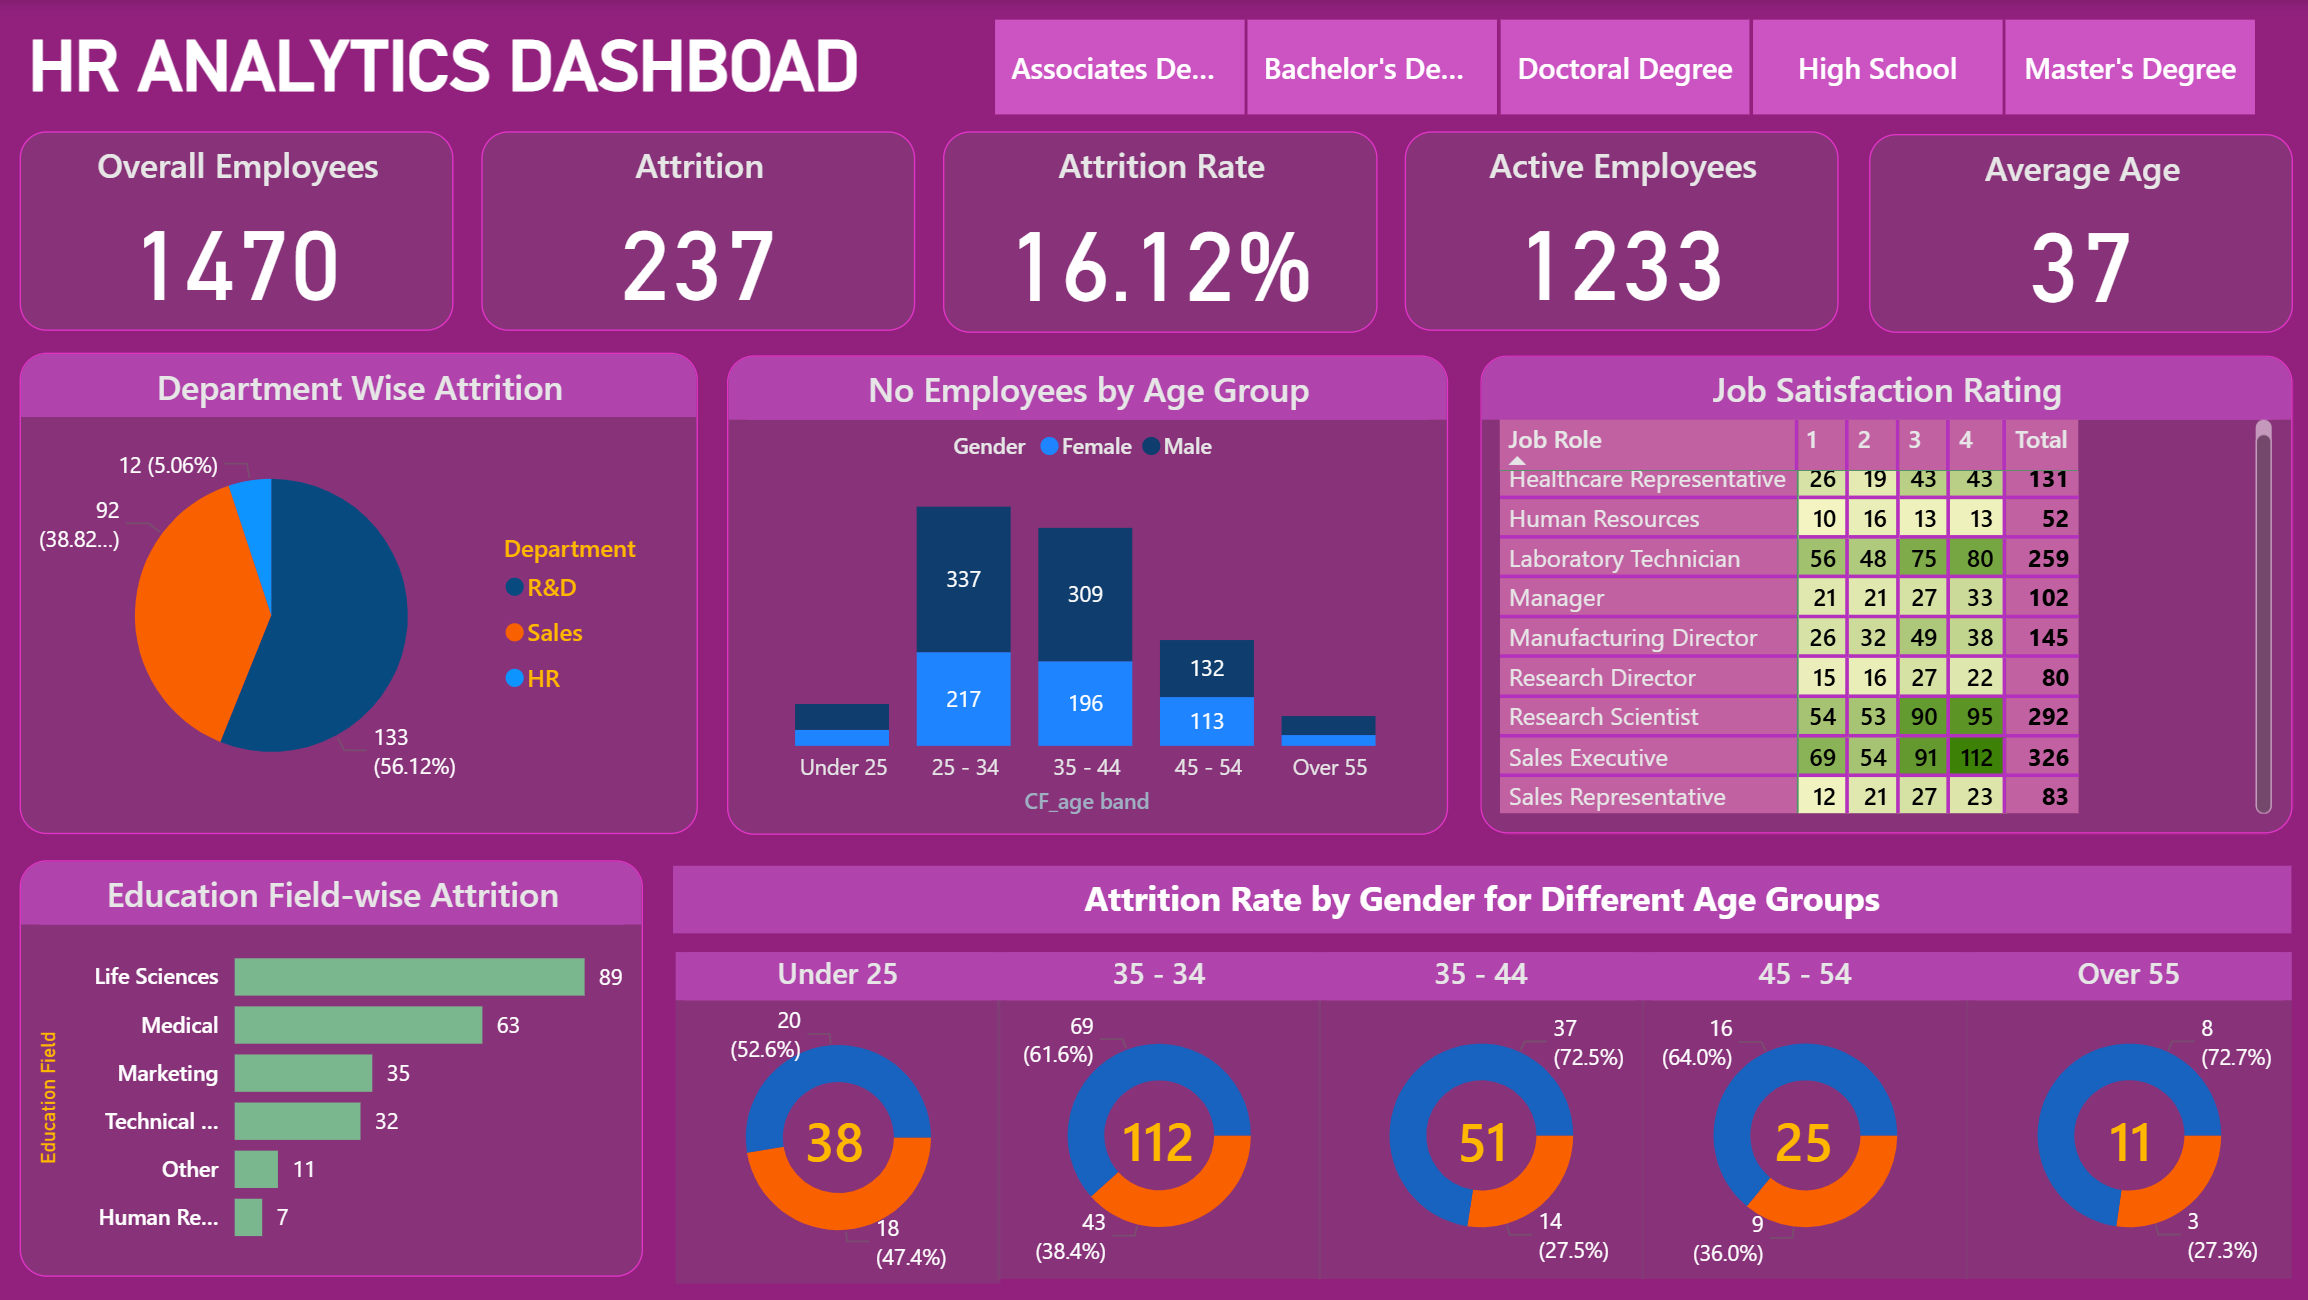

What the dashboard file says about the page in this screenshot:
{"tool":"powerbi","page":{"name":"Page 1","canvas":[1280,720],"ordinal":0},"visuals":[{"type":"slicer","fields":{"Values":["HR data.Education"]},"box":[525.4,3.8,746.5,66.1],"z":0},{"type":"textbox","box":[11.2,8.8,511.2,53.8],"z":1000},{"type":"textbox","box":[373.8,478.8,895,37.5],"z":2000},{"type":"card","title":"Overall Employees","fields":{"Values":["Sum(HR data.Employee Count)"]},"box":[11.3,73.5,240.1,110.4],"z":3000},{"type":"card","title":"Attrition","fields":{"Values":["Sum(HR data.Attrition Count)"]},"box":[267,73.3,240,110.4],"z":4000},{"type":"card","title":"Attrition Rate","fields":{"Values":["HR data.Attrition Rate"]},"box":[522.6,73.3,240.4,111.6],"z":5000},{"type":"card","title":"Active Employees","fields":{"Values":["HR data.Active Employees"]},"box":[778.6,73.5,240.1,110.4],"z":6000},{"type":"card","title":"Average Age","fields":{"Values":["Avg(HR data.Age)"]},"box":[1034.3,75,234.5,110],"z":7000},{"type":"pieChart","title":"Department Wise Attrition","fields":{"Y":["Sum(HR data.Attrition Count)"],"Category":["HR data.Department"]},"box":[11.9,196.3,375,266.2],"z":8000},{"type":"columnChart","title":"No Employees by Age Group","fields":{"Category":["HR data.CF_age band"],"Y":["Sum(HR data.Employee Count)"],"Series":["HR data.Gender"]},"box":[403.1,197.5,398.8,265],"z":9000},{"type":"pivotTable","title":"Job Satisfaction Rating ","fields":{"Rows":["HR data.Job Role"],"Columns":["HR data.Job Satisfaction"],"Values":["Sum(HR data.Employee Count)"]},"box":[819.7,197.7,449.1,264.5],"z":10000},{"type":"barChart","title":"Education Field-wise Attrition ","fields":{"Category":["HR data.Education Field"],"Y":["Sum(HR data.Attrition Count)"]},"box":[11.3,477.1,345,230.4],"z":11000},{"type":"donutChart","title":"Under 25","fields":{"Category":["HR data.Gender"],"Y":["Sum(HR data.Attrition Count)"],"Series":["HR data.CF_age band"]},"box":[374.2,527.3,179.5,183.3],"z":12000},{"type":"donutChart","title":"35 - 34","fields":{"Category":["HR data.Gender"],"Y":["Sum(HR data.Attrition Count)"],"Series":["HR data.CF_age band"]},"box":[552.5,526.8,179.1,180.9],"z":13000},{"type":"donutChart","title":"35 - 44","fields":{"Category":["HR data.Gender"],"Y":["Sum(HR data.Attrition Count)"],"Series":["HR data.CF_age band"]},"box":[730.7,526.8,180,180.9],"z":14000},{"type":"donutChart","title":"45 - 54","fields":{"Category":["HR data.Gender"],"Y":["Sum(HR data.Attrition Count)"],"Series":["HR data.CF_age band"]},"box":[909.7,526.8,180,180.9],"z":15000},{"type":"donutChart","title":"Over 55","fields":{"Category":["HR data.Gender"],"Y":["Sum(HR data.Attrition Count)"],"Series":["HR data.CF_age band"]},"box":[1088.8,526.8,180,180.9],"z":16000},{"type":"card","title":"Average Age","fields":{"Values":["Sum(HR data.Attrition Count)"]},"box":[418.4,592.5,88.8,77.5],"z":17000},{"type":"card","title":"Average Age","fields":{"Values":["Sum(HR data.Attrition Count)"]},"box":[597.1,592.5,88.8,77.5],"z":18000},{"type":"card","title":"Average Age","fields":{"Values":["Sum(HR data.Attrition Count)"]},"box":[777.1,592.5,88.8,77.5],"z":19000},{"type":"card","title":"Average Age","fields":{"Values":["Sum(HR data.Attrition Count)"]},"box":[954.6,592.5,88.8,77.5],"z":20000},{"type":"card","title":"Average Age","fields":{"Values":["Sum(HR data.Attrition Count)"]},"box":[1134.6,592.5,88.8,77.5],"z":21000}]}

Visuals, with their boxes in screenshot pixels (x1, y1, x2, y2), scaled from the page's 1280x720 canvas onto the 2308x1300 screenshot:
slicer - HR data.Education: [947,7,2293,126]
textbox: [20,16,942,113]
textbox: [674,864,2288,932]
"Overall Employees" card: [20,133,453,332]
"Attrition" card: [481,132,914,332]
"Attrition Rate" card: [942,132,1376,334]
"Active Employees" card: [1404,133,1837,332]
"Average Age" card: [1865,135,2288,334]
"Department Wise Attrition" pieChart: [21,354,698,835]
"No Employees by Age Group" columnChart: [727,357,1446,835]
"Job Satisfaction Rating " pivotTable: [1478,357,2288,835]
"Education Field-wise Attrition " barChart: [20,861,642,1277]
"Under 25" donutChart: [675,952,998,1283]
"35 - 34" donutChart: [996,951,1319,1278]
"35 - 44" donutChart: [1318,951,1642,1278]
"45 - 54" donutChart: [1640,951,1965,1278]
"Over 55" donutChart: [1963,951,2288,1278]
"Average Age" card: [754,1070,915,1210]
"Average Age" card: [1077,1070,1237,1210]
"Average Age" card: [1401,1070,1561,1210]
"Average Age" card: [1721,1070,1881,1210]
"Average Age" card: [2046,1070,2206,1210]
